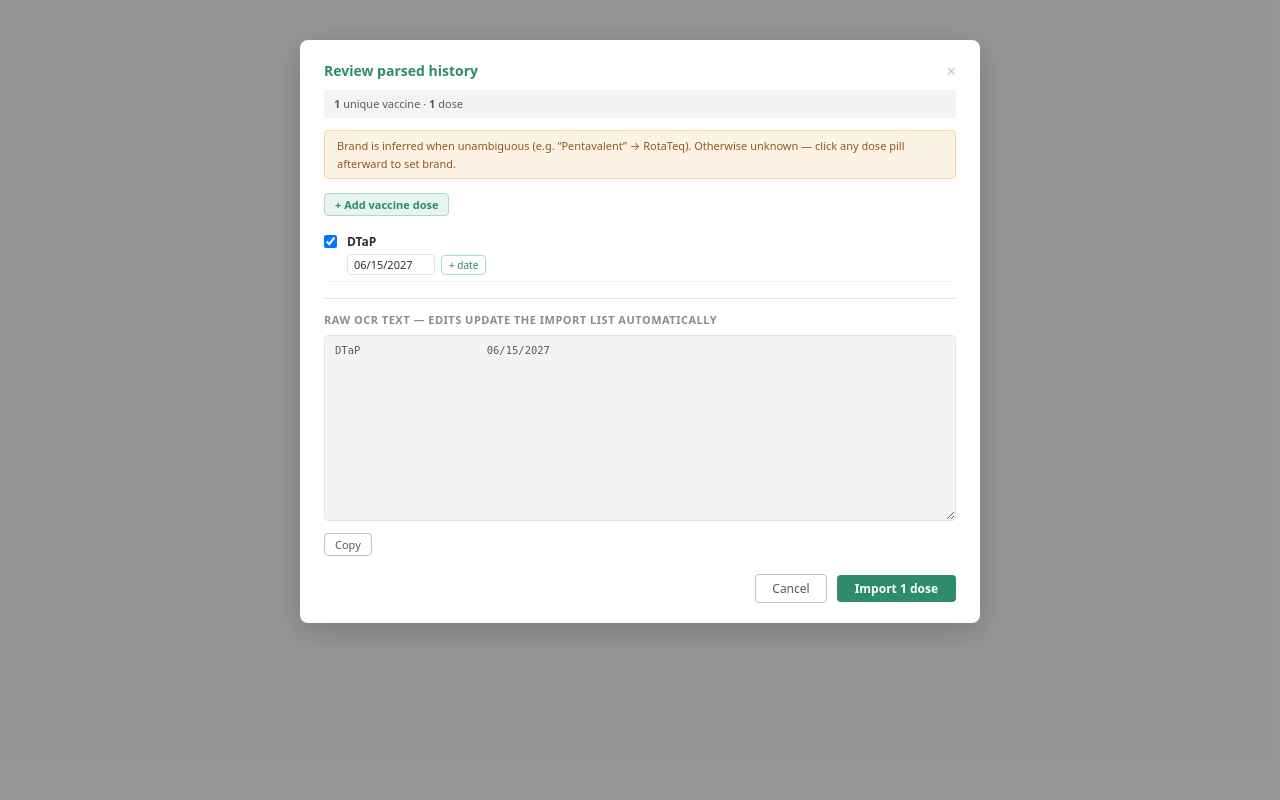
Test: ReviewModal — H6.2: confirm-time date validation warnings › "Remove flagged dates" button removes the bad date and hides the panel
What coordinates should you click on to do the following:
click the button with test id "ocr-confirm-btn"
I would click on:
 (896, 589)
Its box is [837,575,956,602].
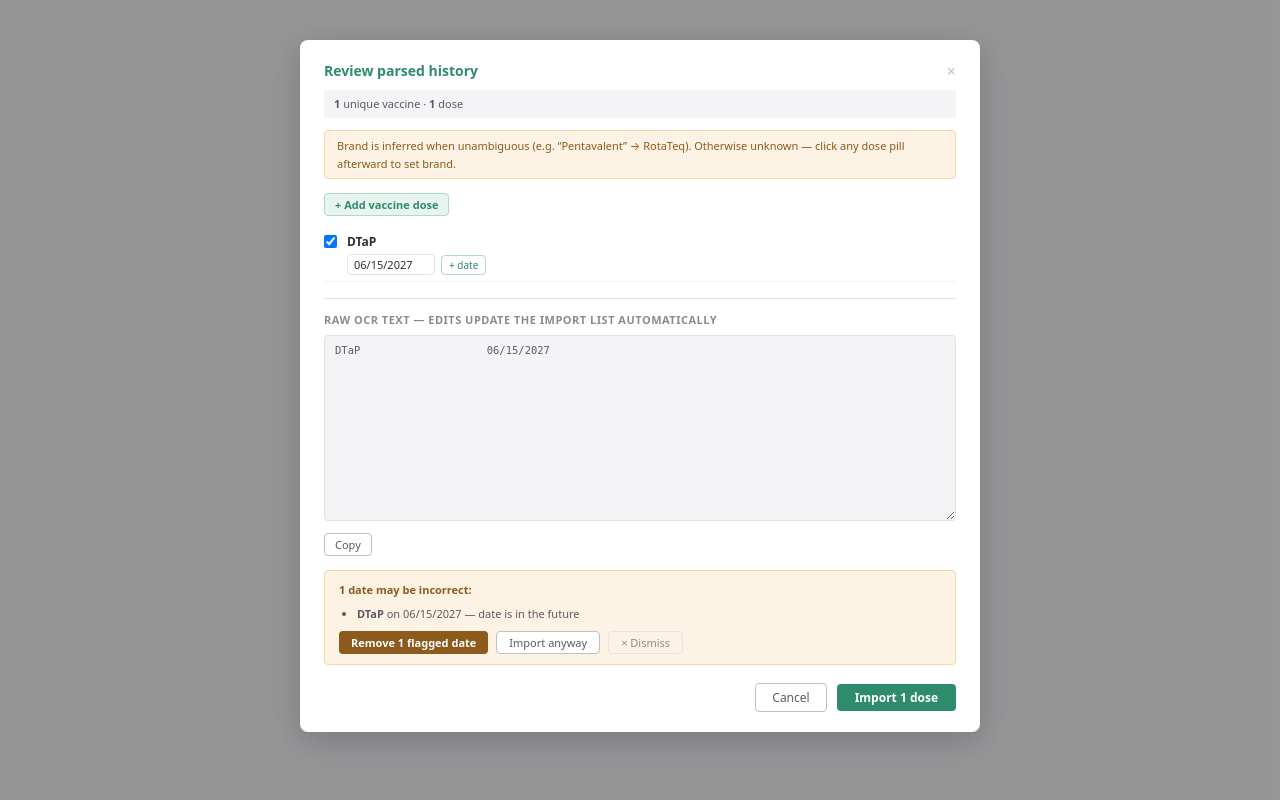
Expected: the element with test id "ocr-confirm-warnings" is shown, [324,570,956,664]
What coordinates should you click on to do the following:
click the button with test id "ocr-remove-bad-dates"
I would click on:
 (414, 642)
Its box is [339,630,488,654].
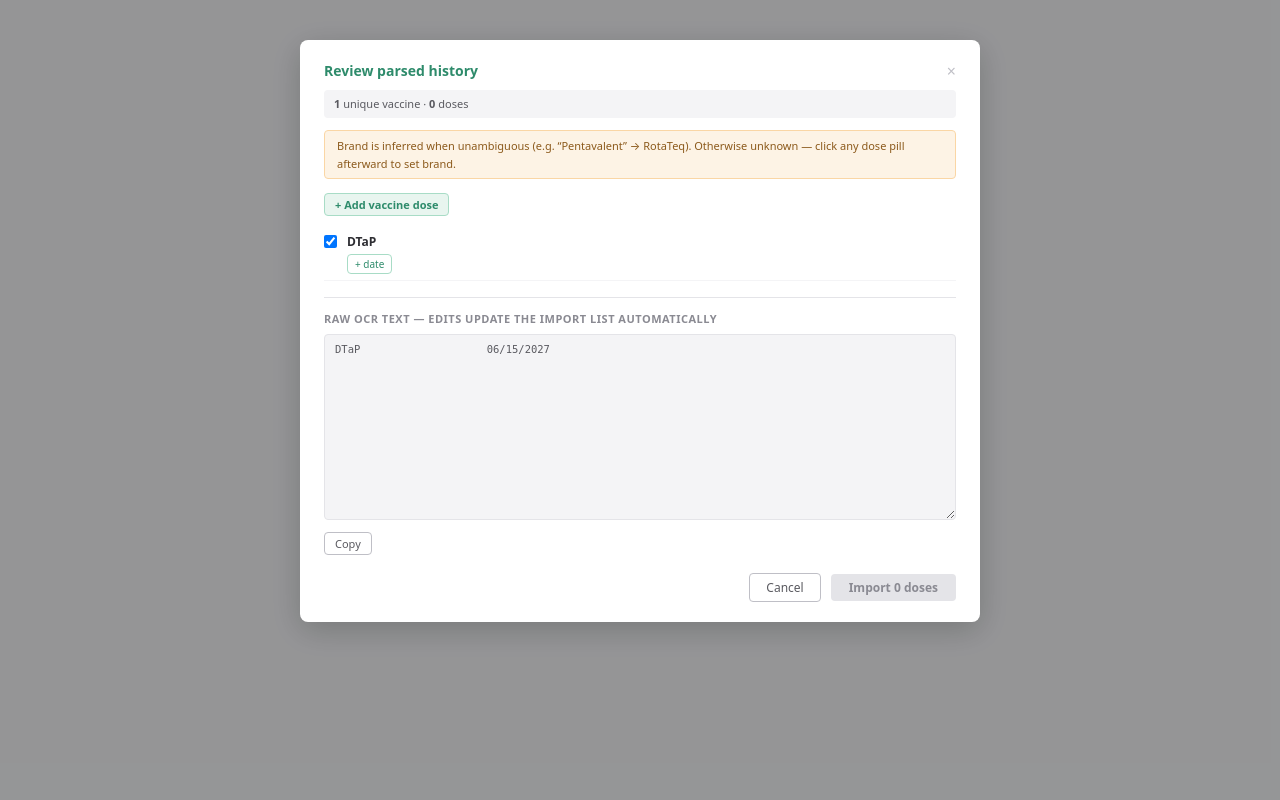
Expected: the element with test id "ocr-confirm-warnings" is gone
